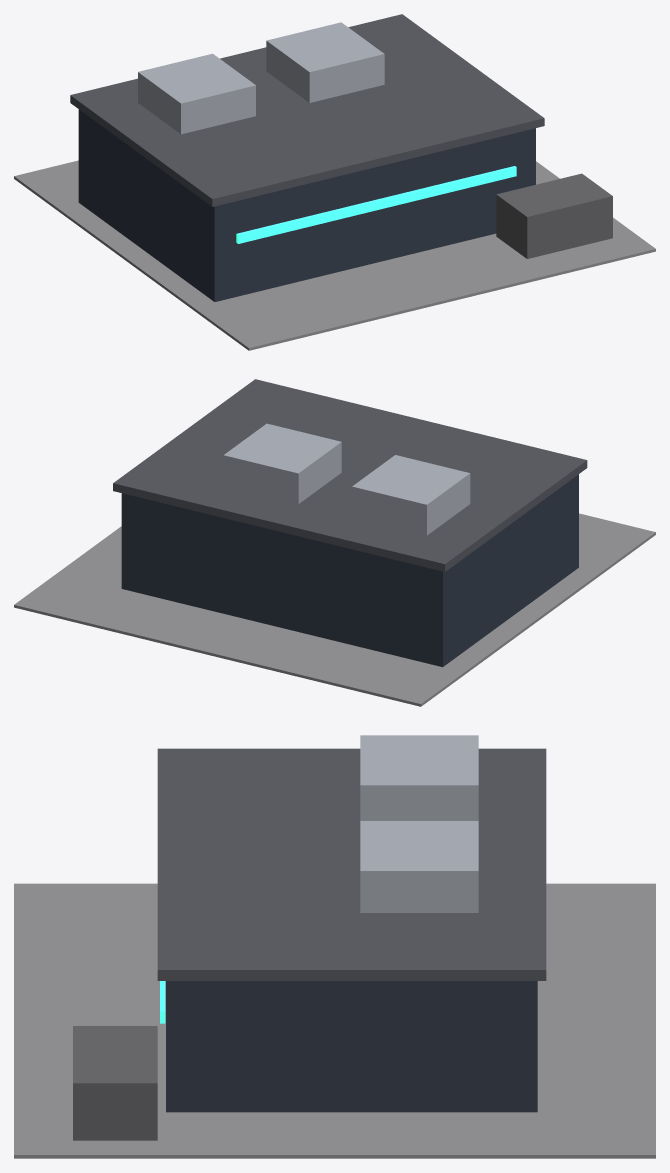
File: data_centre.glb
3 renders of one model, top to bottom at view 1: azimuth 30°, elevation 25°; view 2: azimuth 150°, elevation 25°; view 3: azimuth 270°, elevation 25°, orthographic. The views are drawn at different scales.
Parts seen in each view (by area): view 1: Hall, Roof, Pad, Gen, Cool2, Cool1, Strip; view 2: Hall, Roof, Pad, Cool1, Cool2; view 3: Pad, Roof, Hall, Cool2, Cool1, Gen.
Boxes of the visible parts, box(x1,y1,x2,y2) form: Hall: box(78, 109, 535, 301); Roof: box(70, 14, 544, 206); Pad: box(14, 160, 655, 350); Gen: box(496, 173, 612, 258); Cool2: box(266, 22, 384, 102); Cool1: box(138, 53, 255, 134); Strip: box(236, 166, 516, 243); Hall: box(121, 474, 578, 667); Roof: box(113, 379, 587, 571); Pad: box(14, 513, 655, 706); Cool1: box(352, 455, 470, 535); Cool2: box(223, 423, 341, 504); Pad: box(14, 883, 655, 1158); Roof: box(157, 748, 546, 980); Hall: box(166, 981, 537, 1112); Cool2: box(360, 821, 478, 912); Cool1: box(360, 735, 478, 820); Gen: box(73, 1026, 157, 1140).
Bounding box in the file's own units: 3.8 × 1.25 × 3.8.
